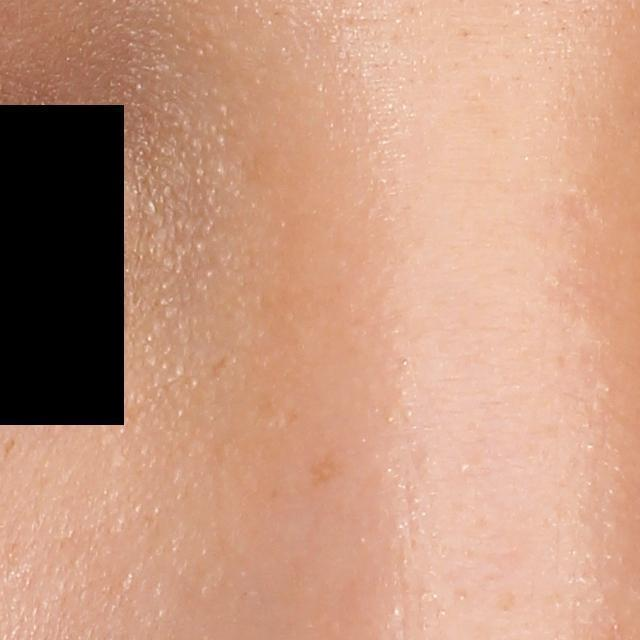melasma: (309, 451, 342, 491), (212, 354, 231, 381)
